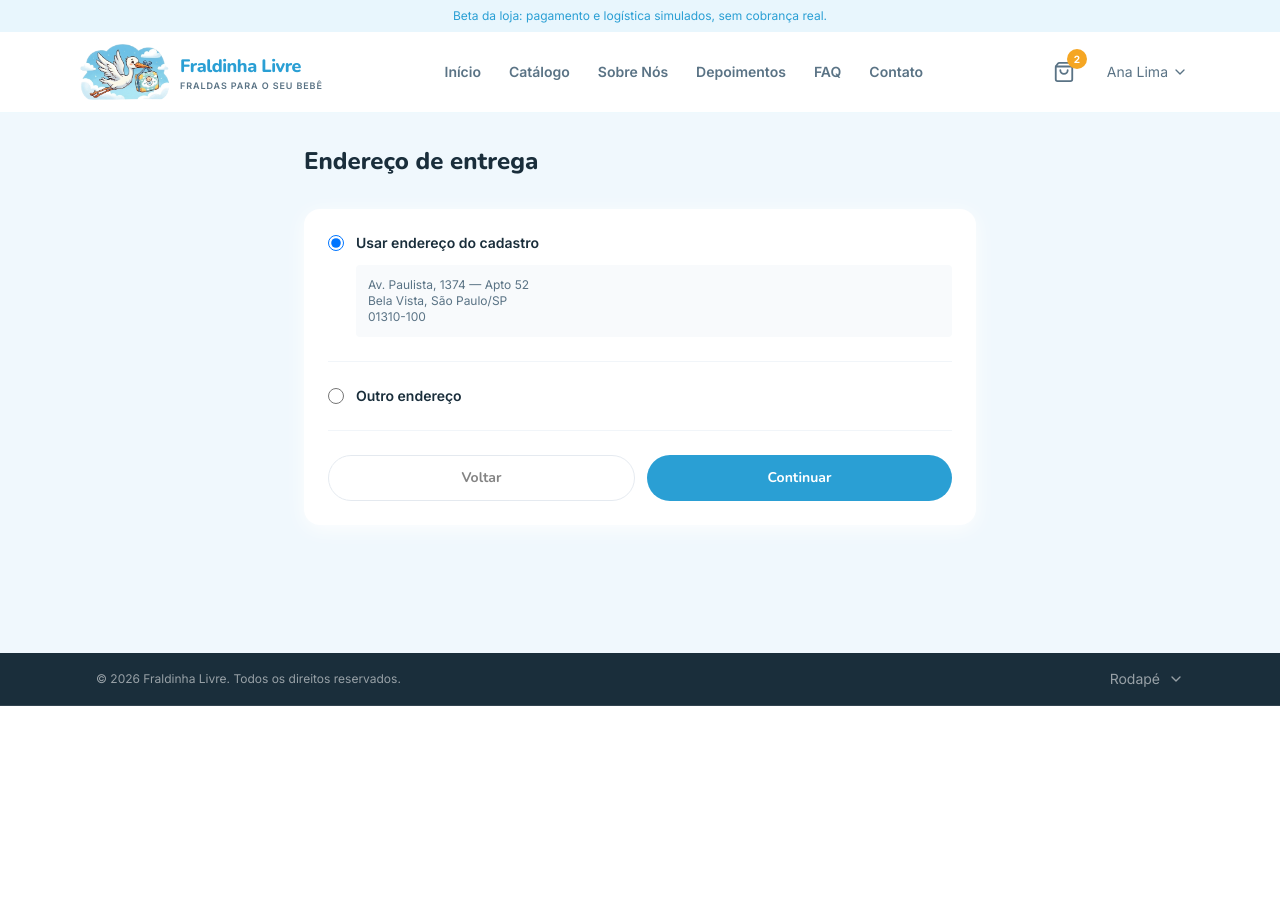
Scenario: CheckoutPage › Passo: Endereco › should keep continue button disabled while custom address is invalid
This screenshot has width=1280, height=900.
// Select custom address option
Click the radio button labelled "Outro endereço".
click(336, 396)  # box [328,388,344,404]
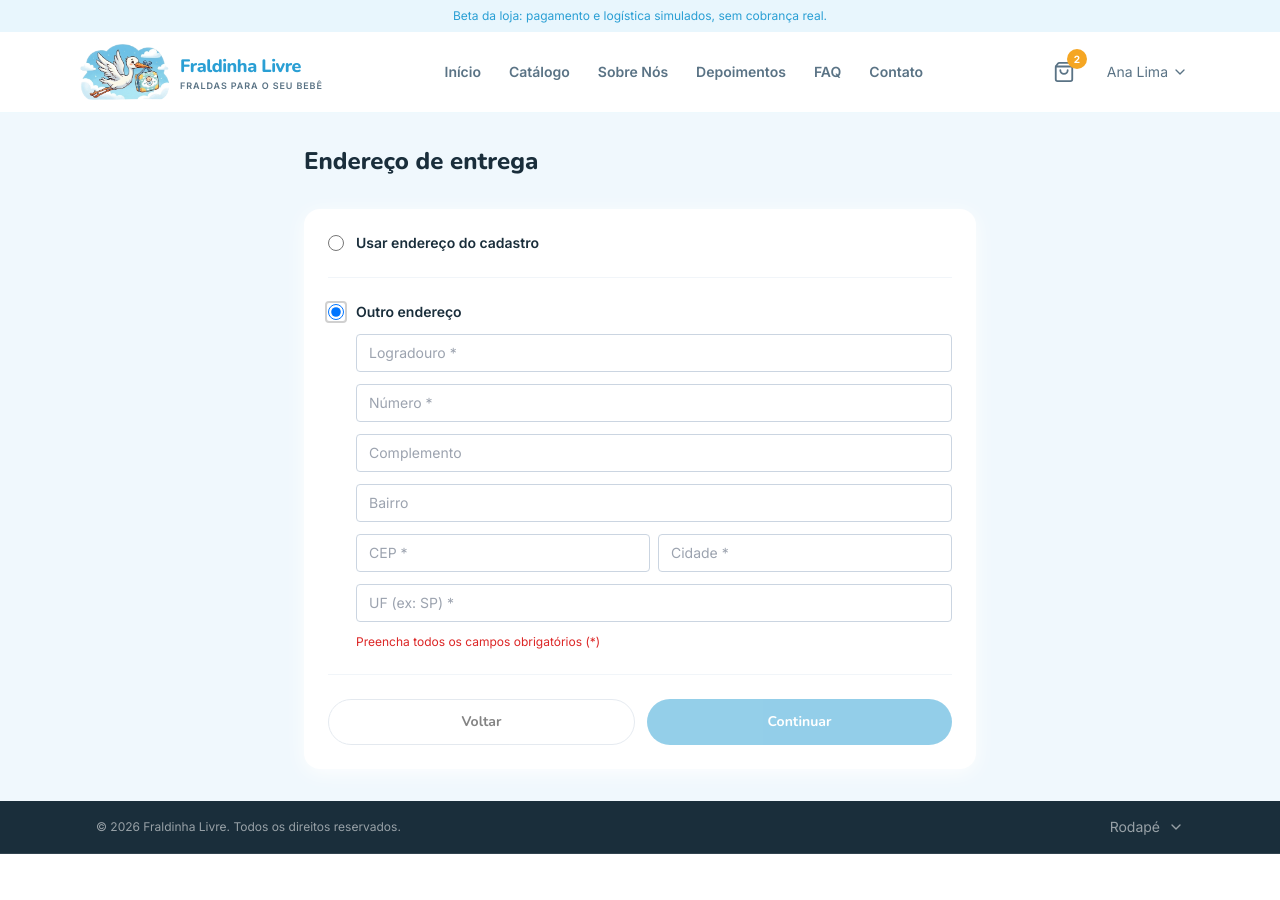
Check: the button "Continuar" is disabled, box [647,699,952,745]
